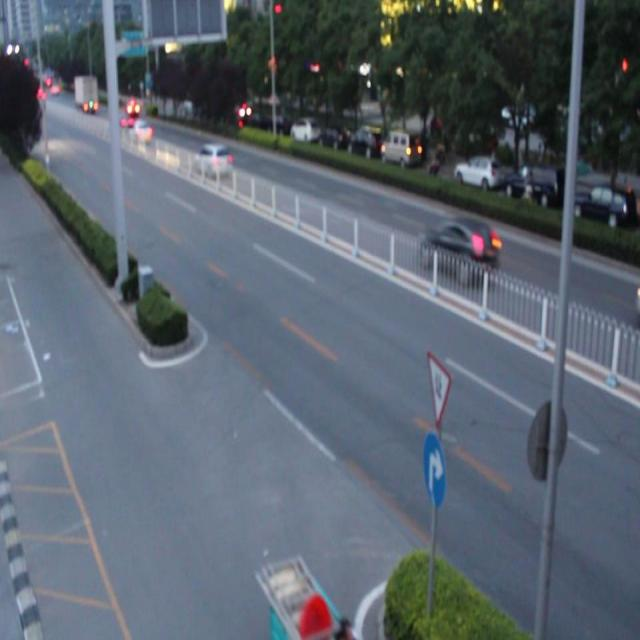car: (418, 214, 499, 289)
